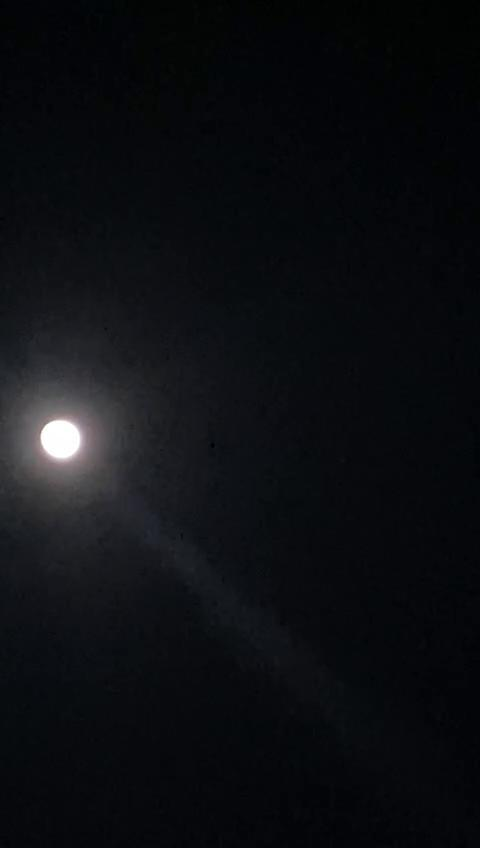moon: (26, 409, 94, 470)
